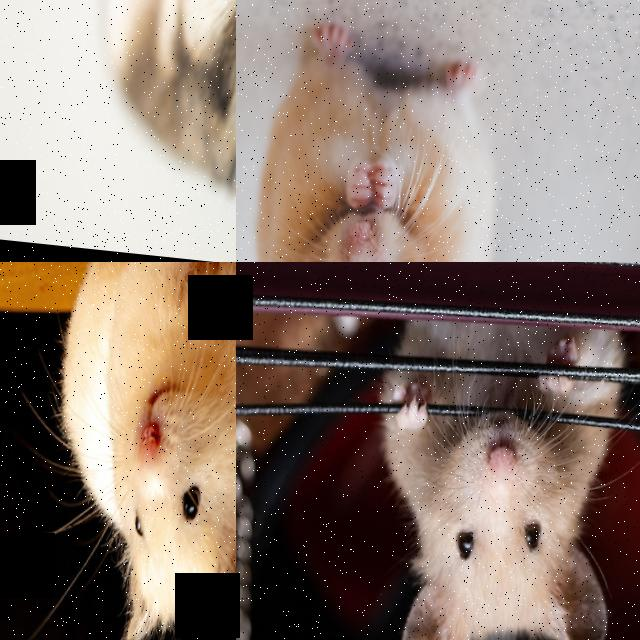hamster: (349, 312, 639, 640), (29, 262, 236, 640), (236, 15, 512, 262), (76, 0, 236, 210)
